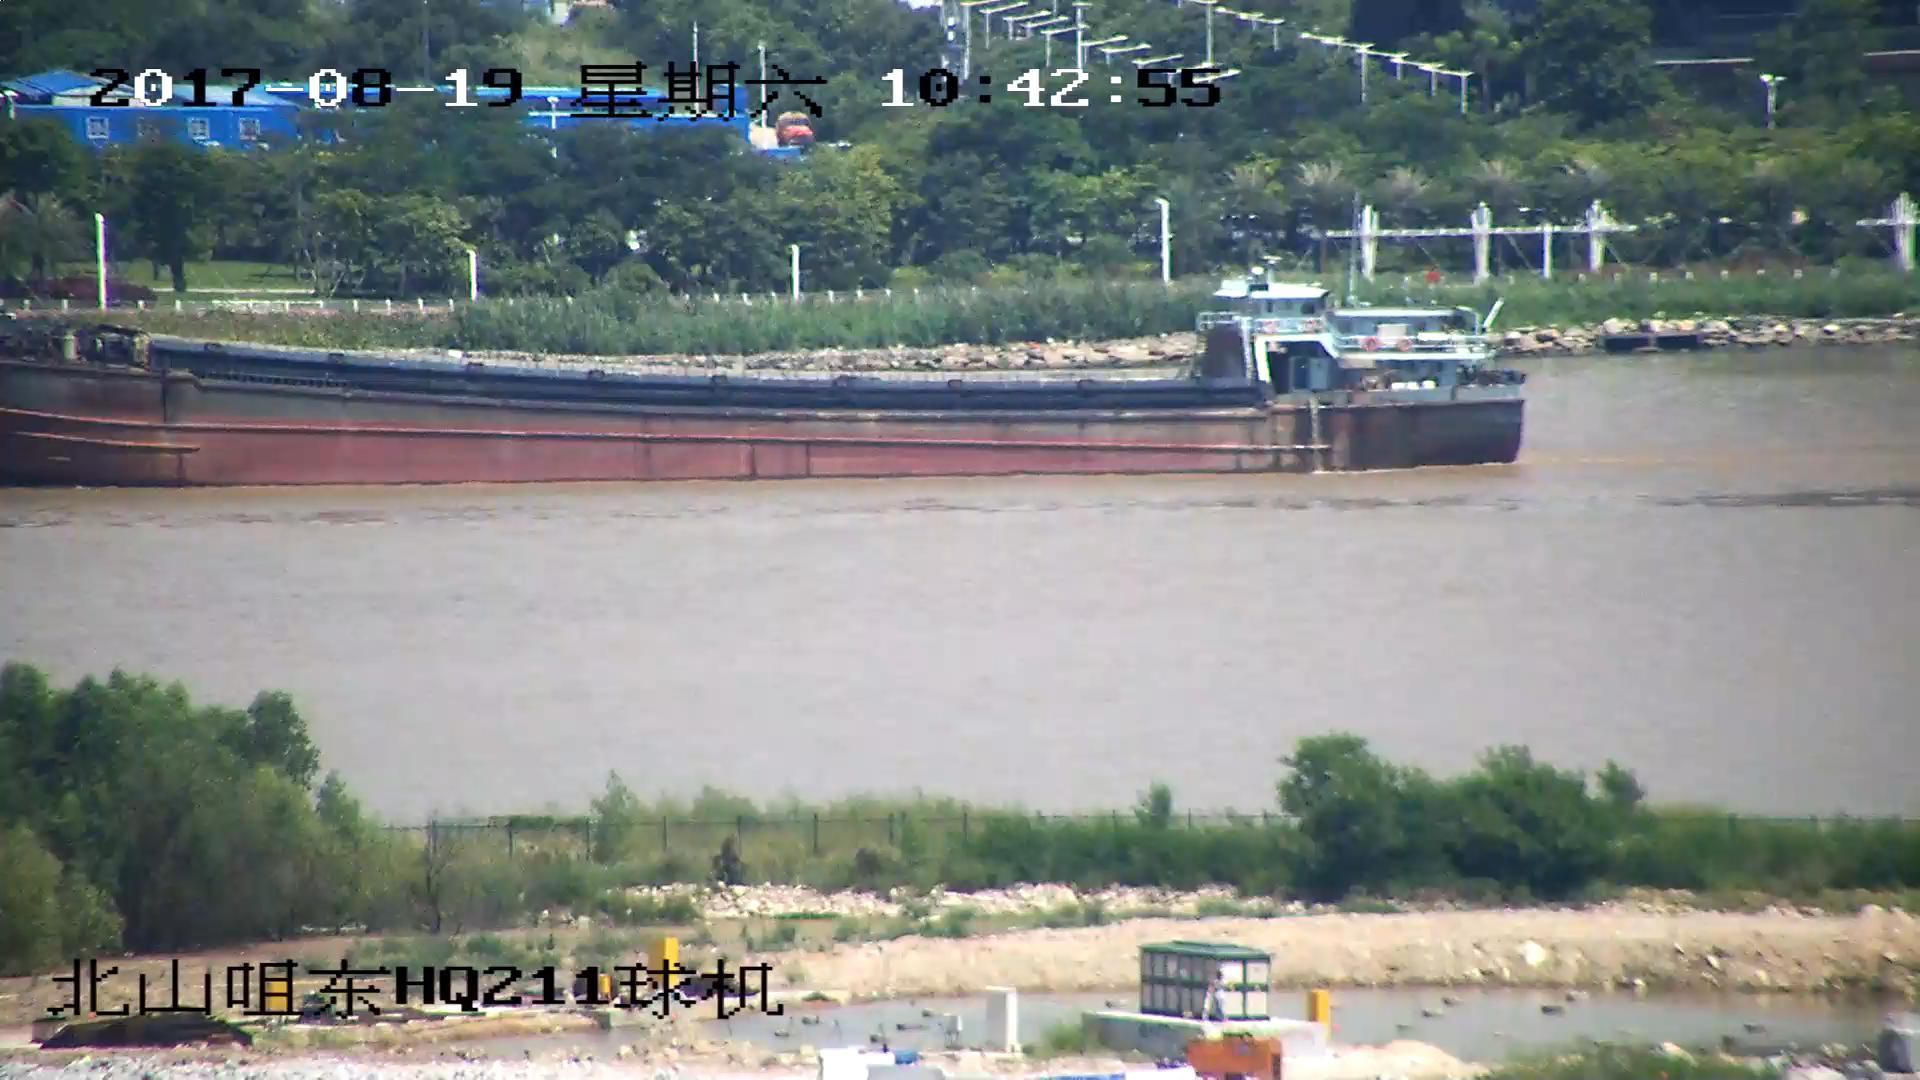Ship: (3, 266, 1526, 487)
